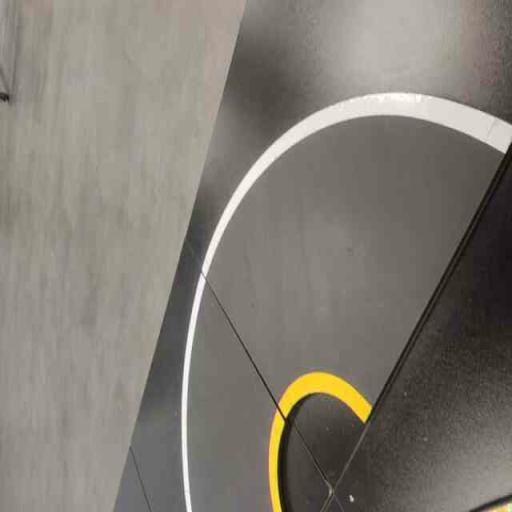left: (188, 15, 511, 489)
